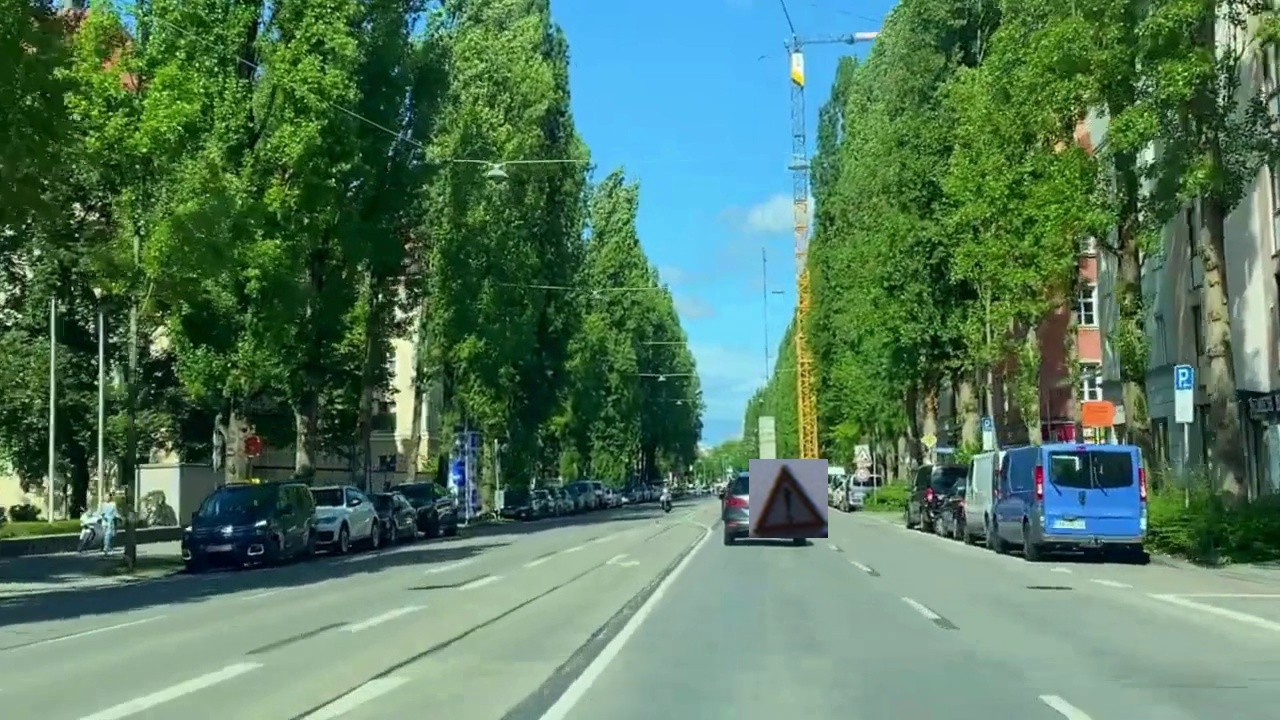Caution: (749, 459, 828, 538)
